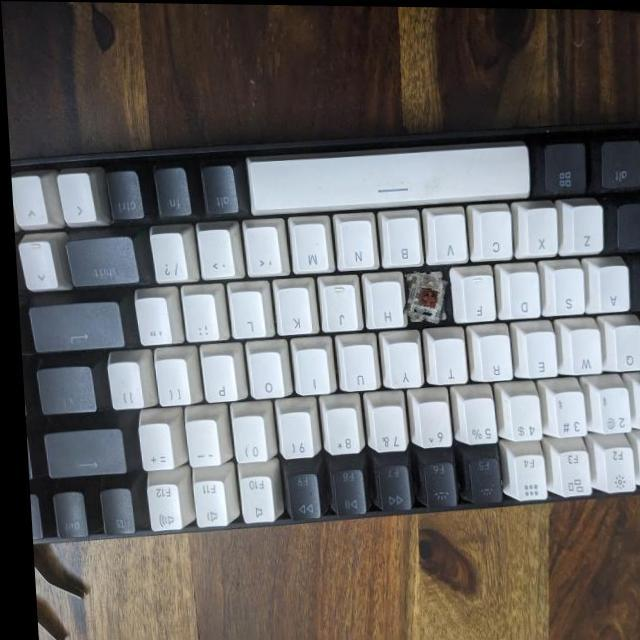key-switch: (399, 271, 446, 322)
